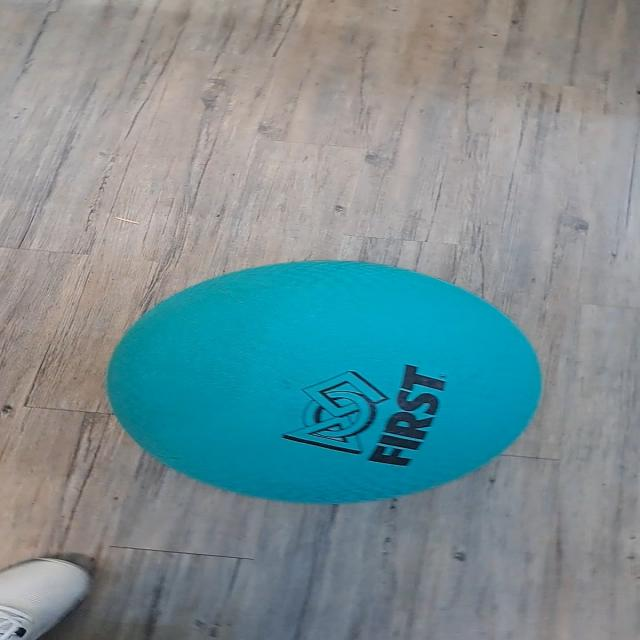ALGAE: (102, 259, 545, 505)
